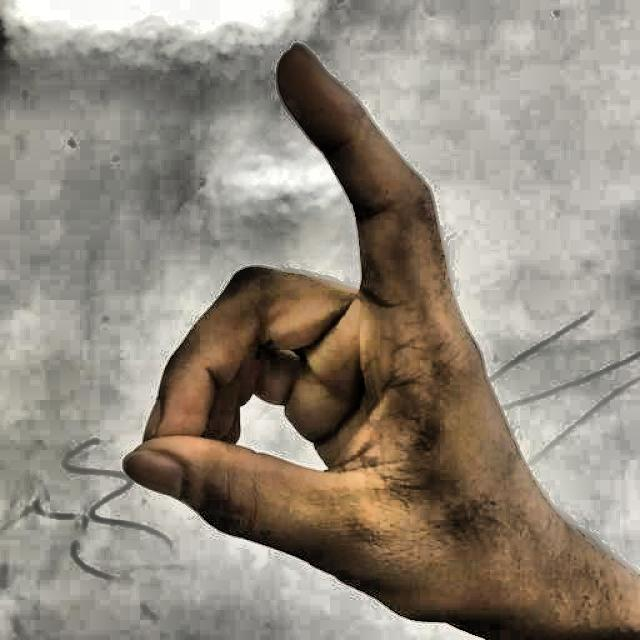Dha: (99, 25, 576, 639)
